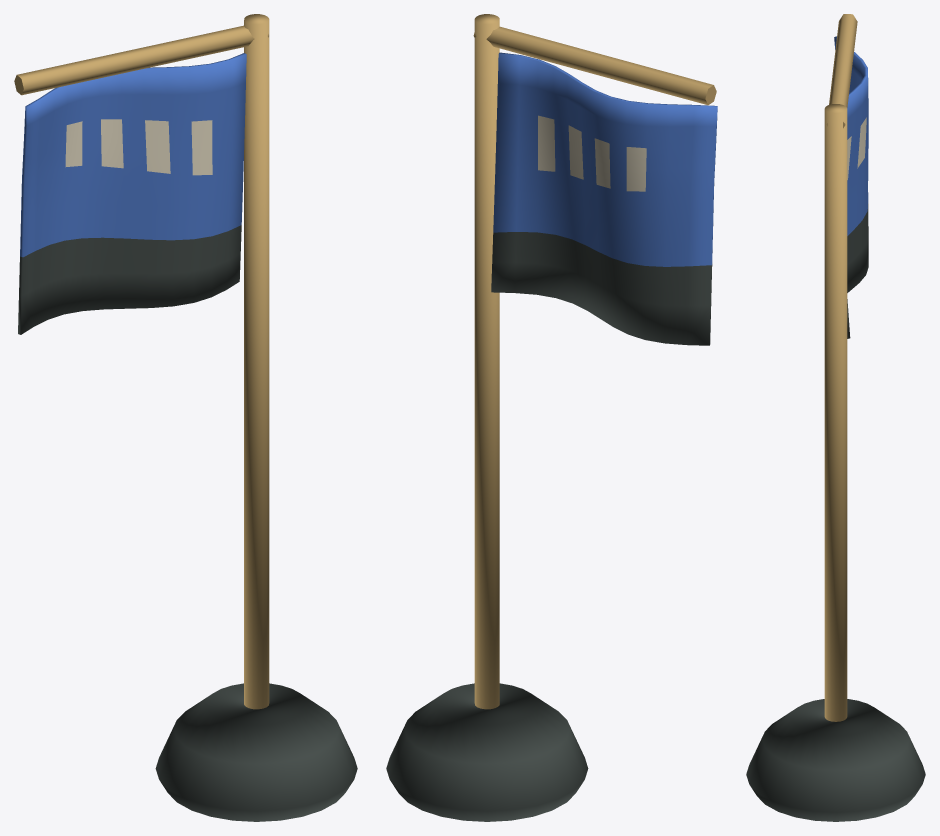
The model's file is fanflag.sapphire-sparks-new.glb.
3 views of the same model, side by side, from view 1: azimuth 30°, elevation 25°; view 2: azimuth 150°, elevation 25°; view 3: azimuth 270°, elevation 25° (orthographic). The views are drawn at different scales.
Visible parts, largest first — view 1: Weighted pedestal; view 2: Weighted pedestal; view 3: Weighted pedestal.
Part boxes in pixels (x1,y1,x2,y2): Weighted pedestal: [14, 14, 357, 821]; Weighted pedestal: [386, 14, 717, 821]; Weighted pedestal: [746, 14, 925, 821].
Size of the model in its own units: 0.8011 by 1.84 by 0.44.
